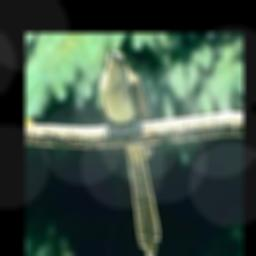Cuckoo: (98, 51, 160, 256)
